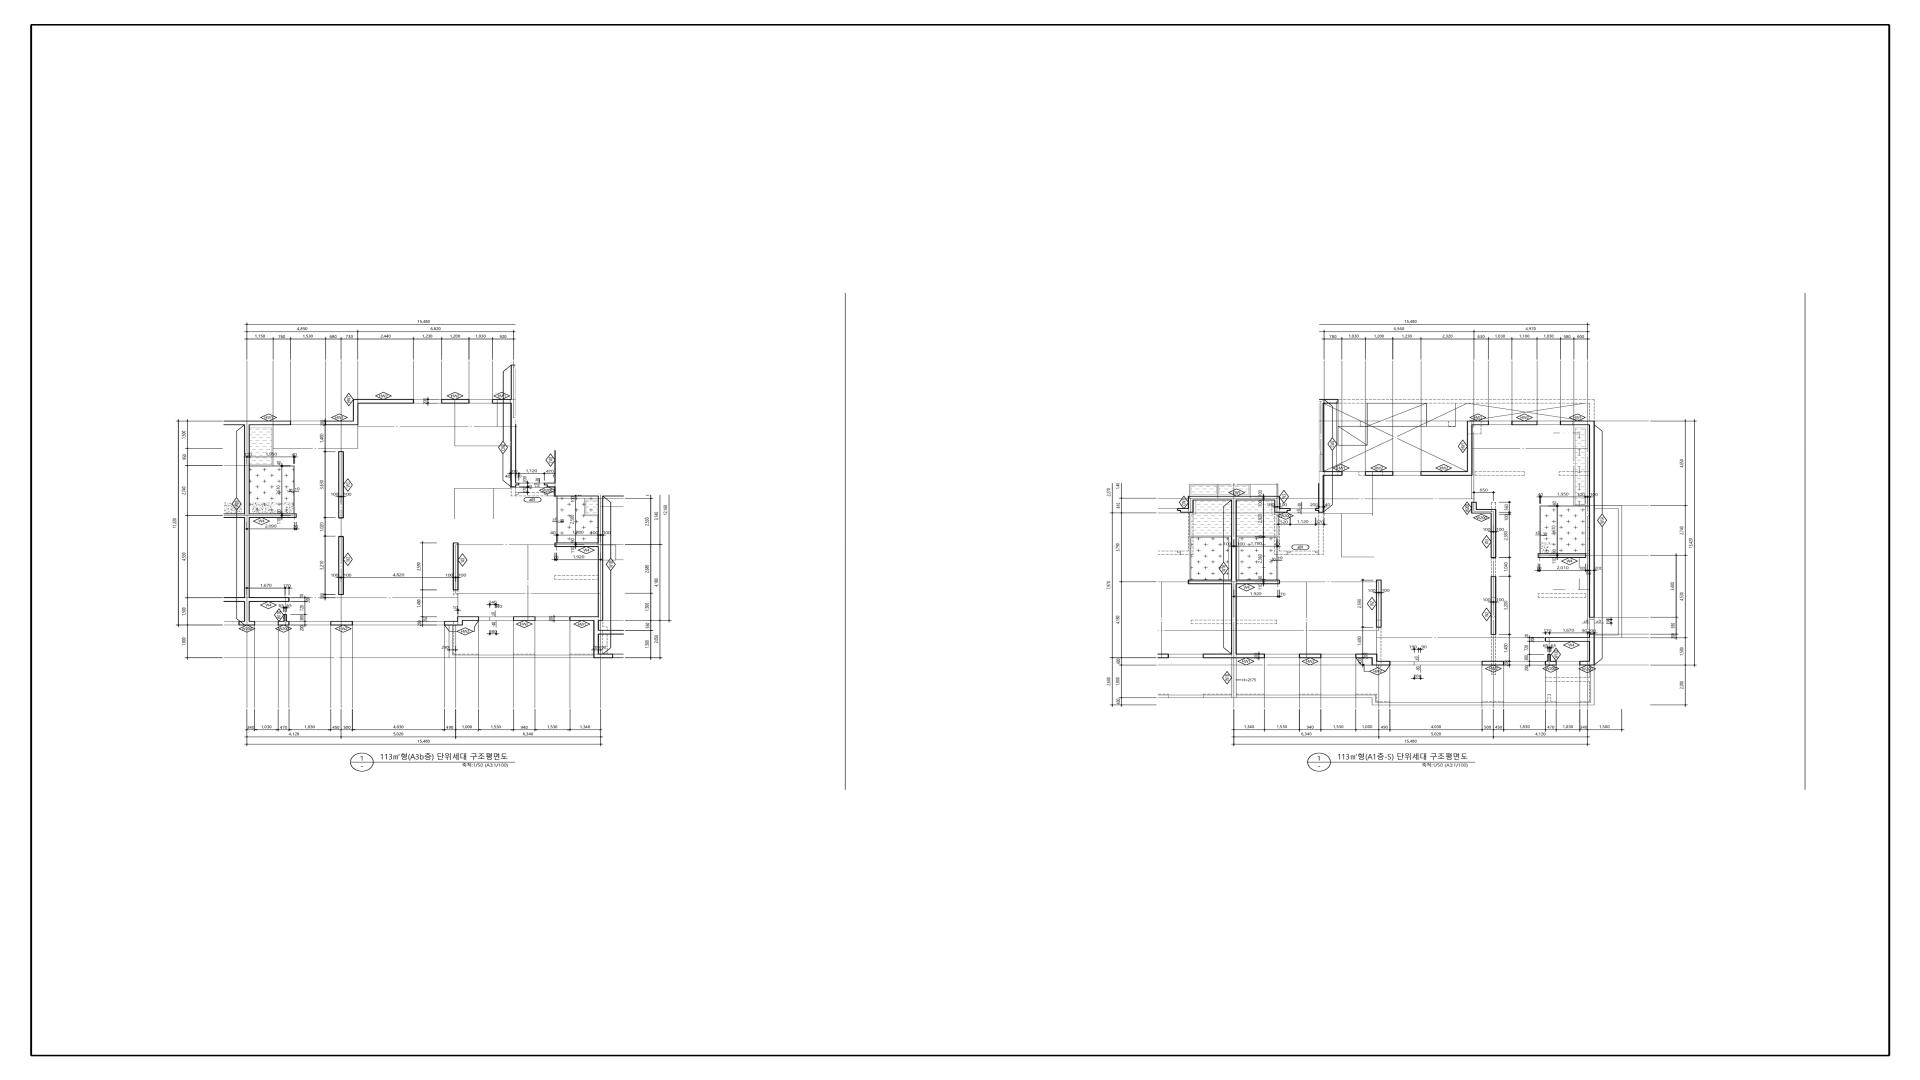wall: (1589, 425, 1594, 617), (1375, 703, 1594, 705), (244, 425, 249, 513), (1232, 500, 1237, 580), (244, 518, 249, 597), (510, 425, 517, 487), (1490, 576, 1497, 634), (1319, 400, 1324, 471), (597, 547, 603, 617), (1232, 584, 1237, 654), (1237, 695, 1375, 698), (339, 451, 344, 518), (452, 542, 459, 591), (597, 496, 604, 543), (339, 537, 344, 595), (1466, 425, 1473, 471), (1490, 513, 1497, 558), (1420, 471, 1473, 476), (249, 513, 297, 518), (1377, 580, 1382, 628), (353, 400, 414, 404), (1545, 637, 1589, 642), (1237, 496, 1280, 501), (1232, 658, 1237, 698), (1319, 476, 1324, 513), (1158, 695, 1232, 698), (555, 543, 604, 547), (1538, 554, 1586, 558), (510, 365, 516, 400), (570, 616, 603, 621), (1188, 580, 1232, 584), (1237, 580, 1280, 584), (249, 421, 291, 425), (249, 597, 290, 601), (1365, 471, 1394, 476), (1193, 496, 1232, 500), (1590, 666, 1594, 703), (1560, 421, 1594, 425), (1319, 471, 1342, 476), (1589, 637, 1594, 661), (593, 630, 624, 634), (513, 616, 535, 621), (1482, 661, 1505, 666), (324, 421, 353, 425), (1203, 654, 1232, 658), (223, 597, 244, 603), (510, 404, 516, 425), (353, 404, 359, 425), (442, 400, 469, 404), (1237, 654, 1265, 658), (224, 513, 244, 518), (244, 601, 249, 621), (593, 634, 599, 654), (1511, 421, 1538, 425), (1371, 661, 1391, 666), (1472, 509, 1497, 513), (331, 621, 353, 625), (1466, 421, 1489, 425), (1299, 654, 1321, 658), (463, 616, 479, 621), (1178, 508, 1193, 513), (224, 421, 244, 425), (593, 654, 613, 658), (1274, 501, 1280, 513), (1580, 661, 1594, 666), (444, 621, 463, 625), (492, 400, 510, 404), (239, 621, 255, 625), (1545, 661, 1557, 666), (1356, 654, 1371, 658), (1188, 496, 1193, 508), (1324, 400, 1338, 404), (1280, 508, 1291, 513), (593, 621, 599, 630), (278, 621, 290, 625), (543, 483, 555, 487), (1371, 654, 1378, 661), (1472, 502, 1477, 509), (1371, 698, 1375, 705), (244, 513, 249, 518), (244, 597, 249, 603), (458, 616, 463, 621), (284, 615, 287, 621), (1547, 654, 1551, 661), (510, 400, 516, 404), (244, 421, 249, 425), (1232, 654, 1237, 658), (1232, 580, 1237, 584), (1232, 496, 1237, 500), (1589, 634, 1594, 637), (516, 483, 520, 485)
